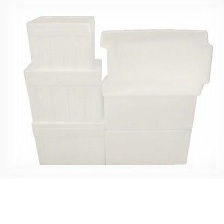foam_box: (97, 24, 217, 100), (97, 69, 207, 131), (19, 56, 107, 124), (21, 10, 99, 71), (101, 119, 194, 167), (27, 116, 109, 169)
